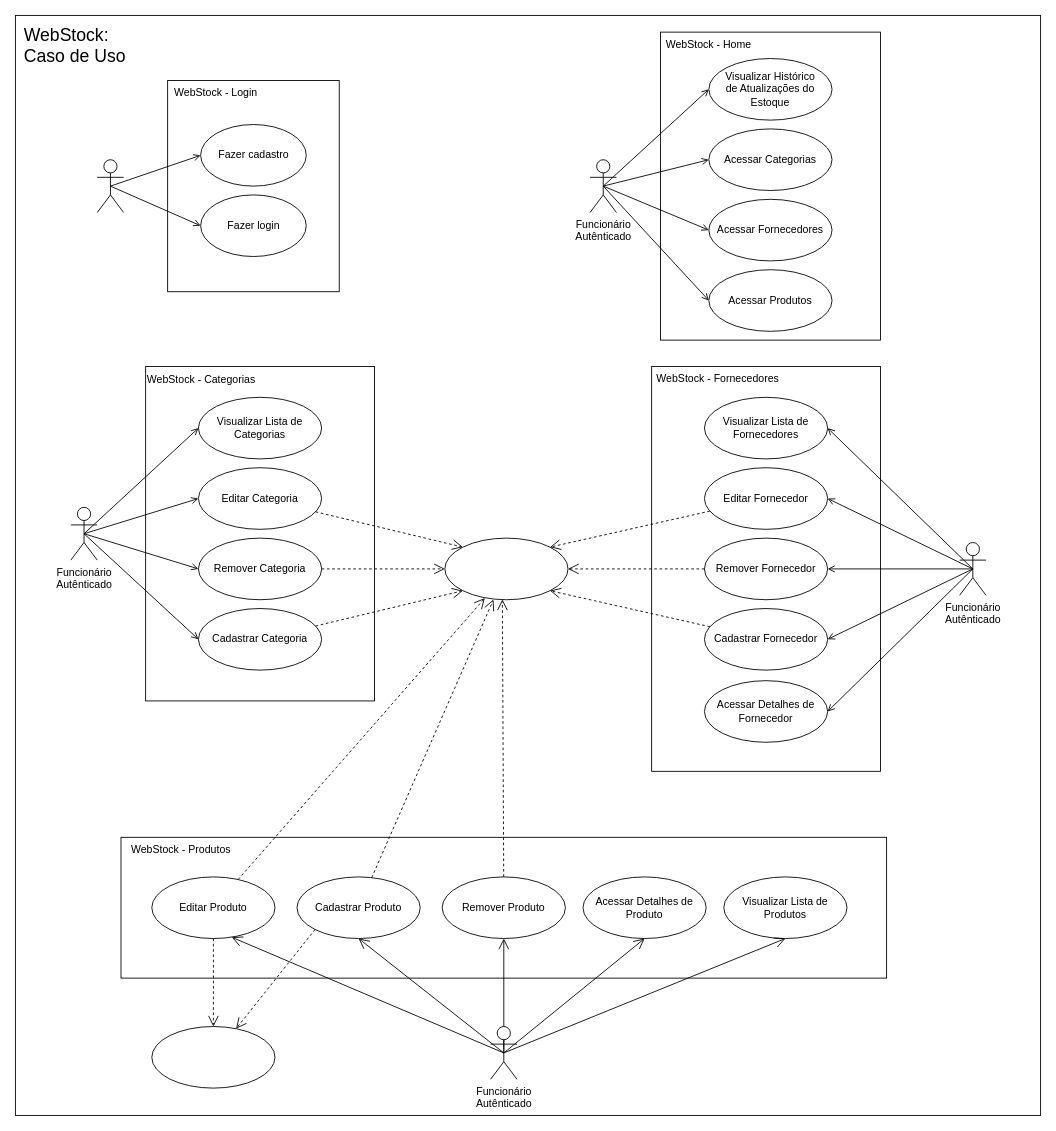
This 1056x1131 diagram has some shape labels left out. The centre of each missing label's shape, as x and y in pixels:
Atualizar Histórico de Produtos: [213,1057]
Funcionário: [110,186]
Notificar Funcionário: [506,568]
